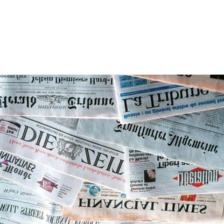news_paper: (0, 115, 151, 204), (73, 102, 224, 172), (59, 174, 224, 222), (109, 72, 223, 129), (0, 175, 130, 223), (0, 74, 128, 122), (121, 144, 223, 201), (0, 148, 89, 212), (118, 74, 224, 99)
